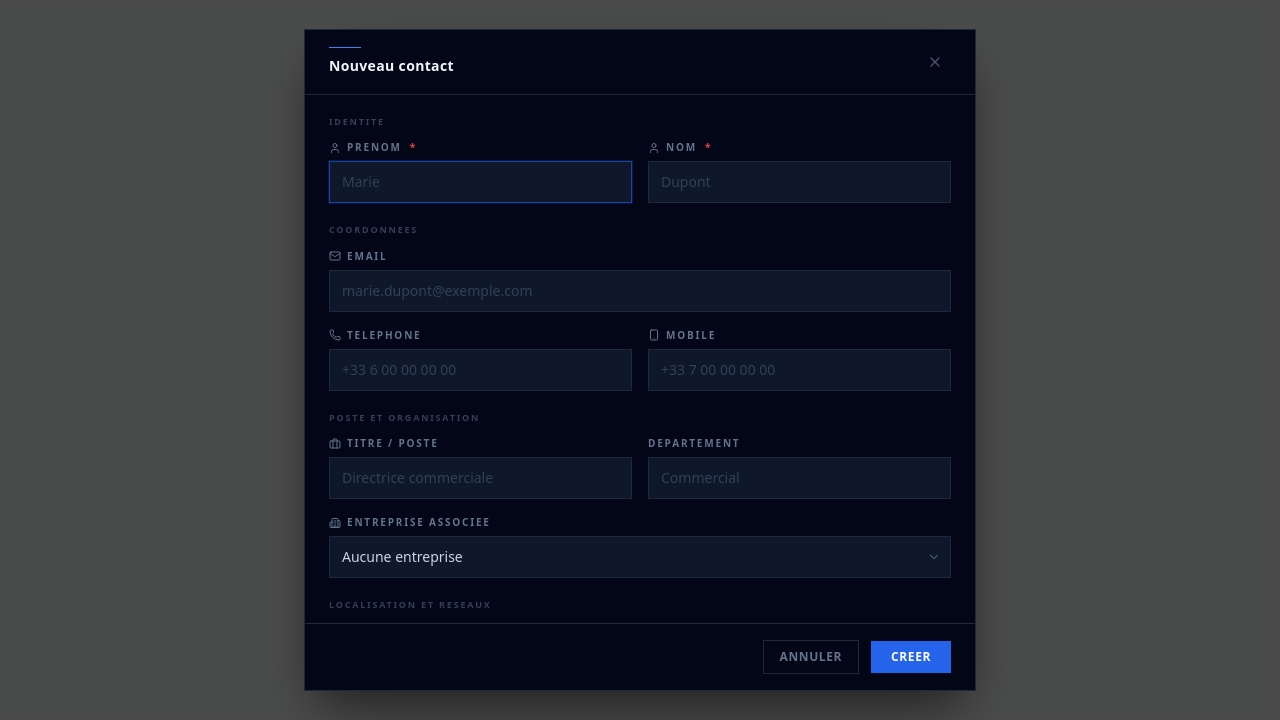
ContactForm › Champs obligatoires › Given le champ Email, When une adresse invalide est saisie, Then affiche un message d erreur de format
In the field labelled "Email": (640, 291) x1=329 y1=270 x2=951 y2=312, type "email-invalide"
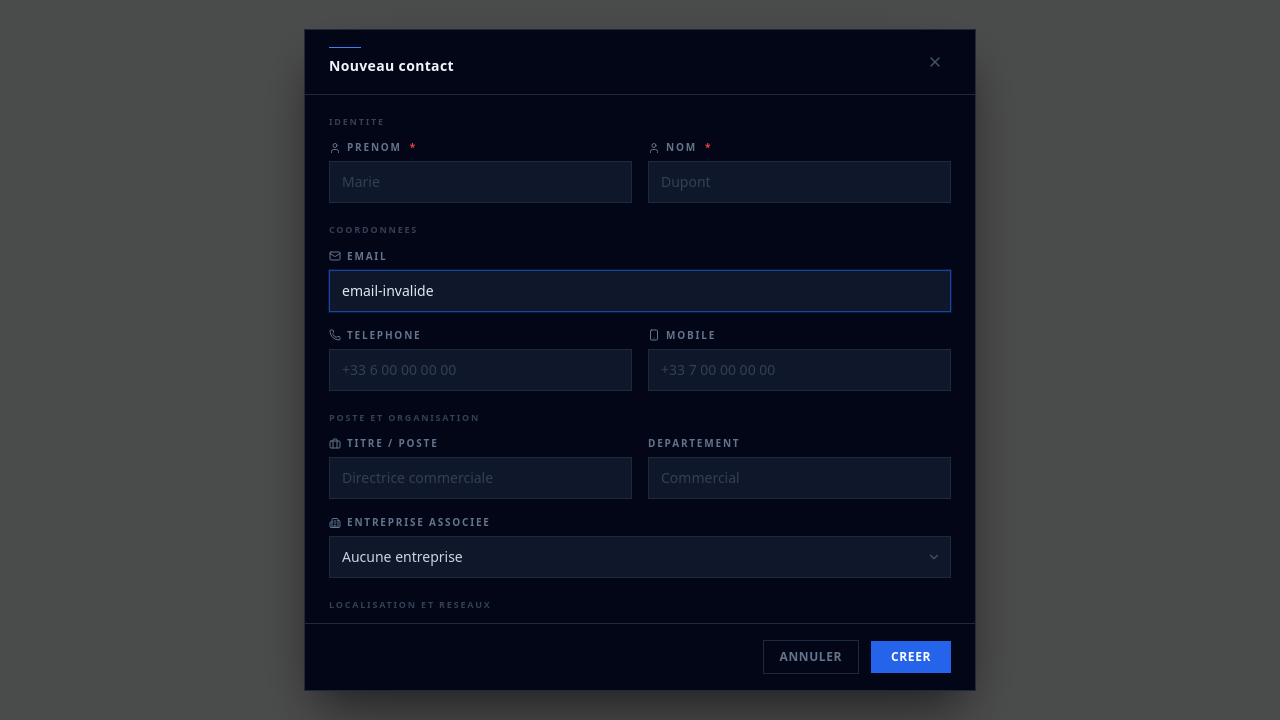
Click the button "Creer": (911, 657) x1=871 y1=641 x2=951 y2=673
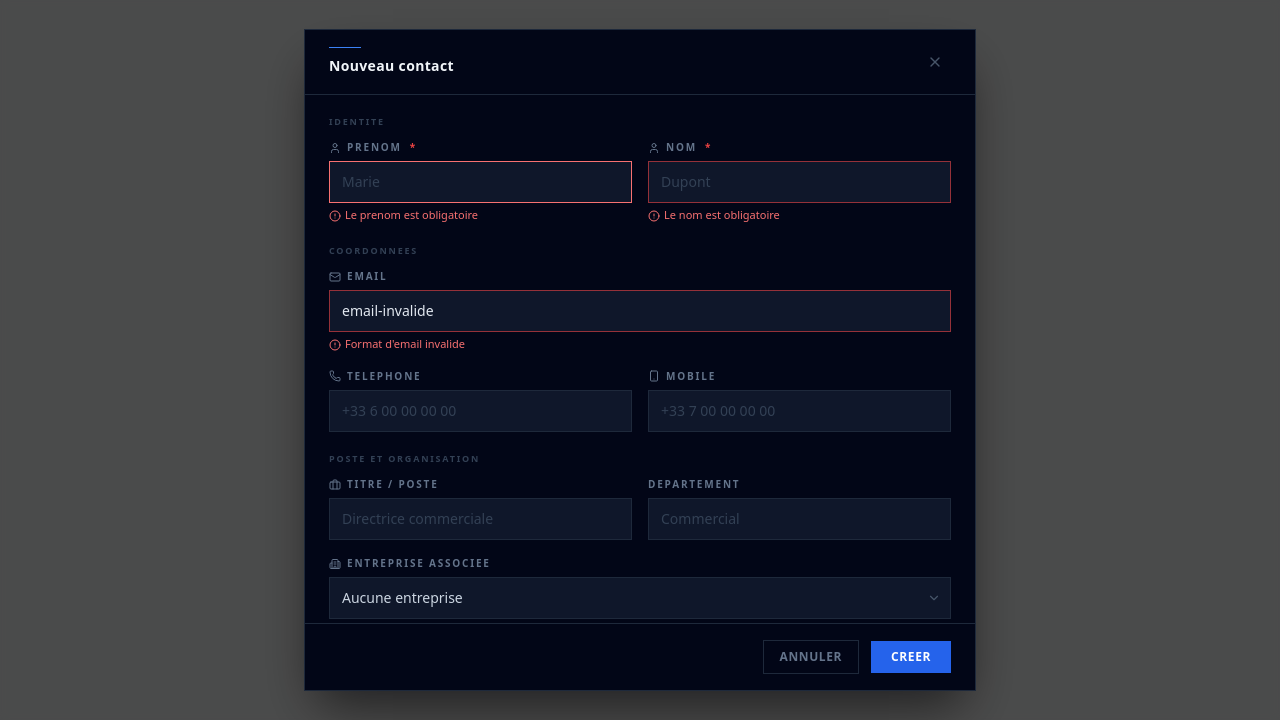
expect the text "Format d'email invalide" is shown: met, box x1=329 y1=336 x2=465 y2=351
